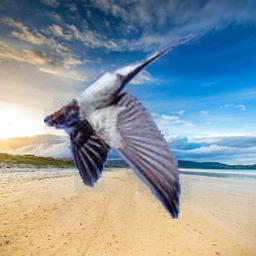Swallow: (44, 32, 202, 219)
